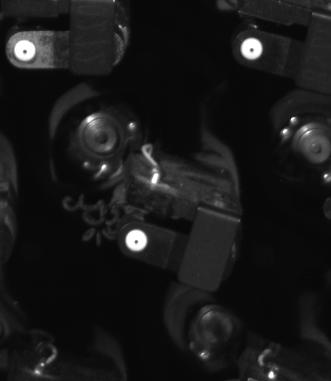fiber: (10, 37, 41, 65), (120, 226, 151, 254), (236, 35, 266, 63)
